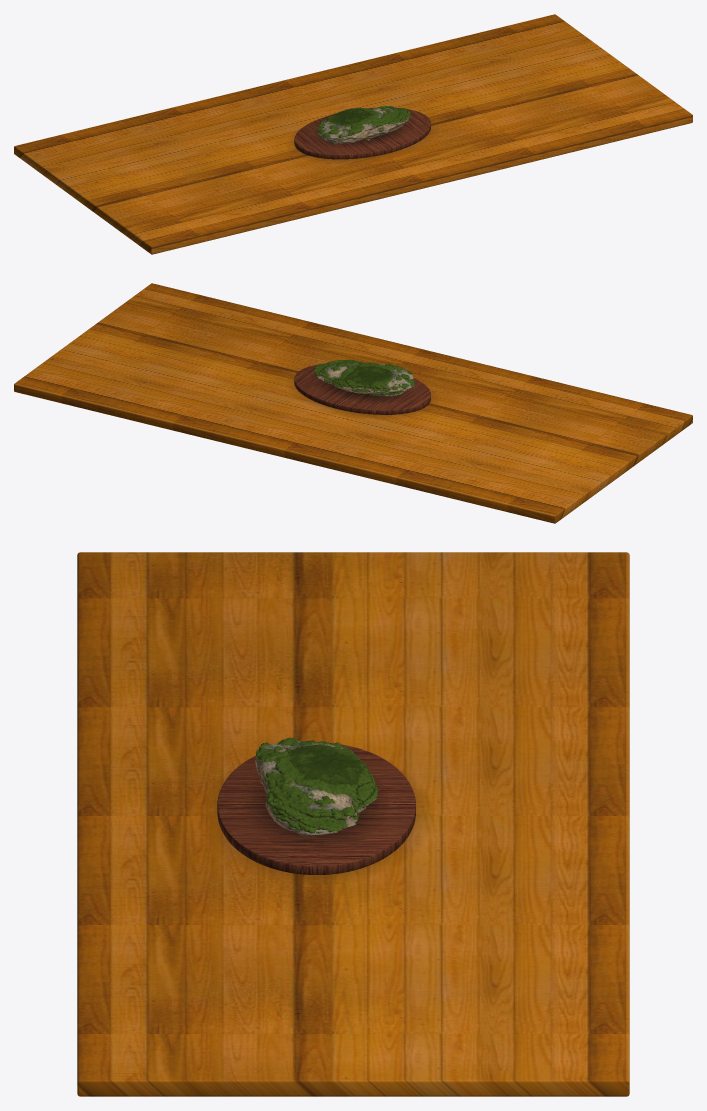
File: bonsai-base-hd.glb
3 views of the same model, one above another, from view 1: azimuth 30°, elevation 25°; view 2: azimuth 150°, elevation 25°; view 3: azimuth 270°, elevation 25° (orthographic). The views are drawn at different scales.
Visible parts, largest first — view 1: bench, board, moss, rock, contact-shadow; view 2: bench, board, moss, rock, contact-shadow; view 3: bench, board, moss, contact-shadow, rock.
Boxes of the visible parts, x1,y1,x2,y2 form: bench: [14, 14, 692, 254]; board: [294, 107, 430, 159]; moss: [316, 106, 410, 139]; rock: [316, 107, 410, 144]; contact-shadow: [318, 123, 424, 160]; bench: [14, 283, 692, 523]; board: [294, 364, 430, 415]; moss: [313, 359, 414, 396]; rock: [313, 363, 413, 396]; contact-shadow: [301, 379, 408, 415]; bench: [77, 552, 629, 1096]; board: [217, 743, 415, 874]; moss: [256, 737, 379, 833]; contact-shadow: [216, 785, 417, 875]; rock: [255, 741, 377, 835].
Size of the model in its own units: 3.4 by 0.1972 by 1.5.
Materials: 6 (6 with a texture image).
